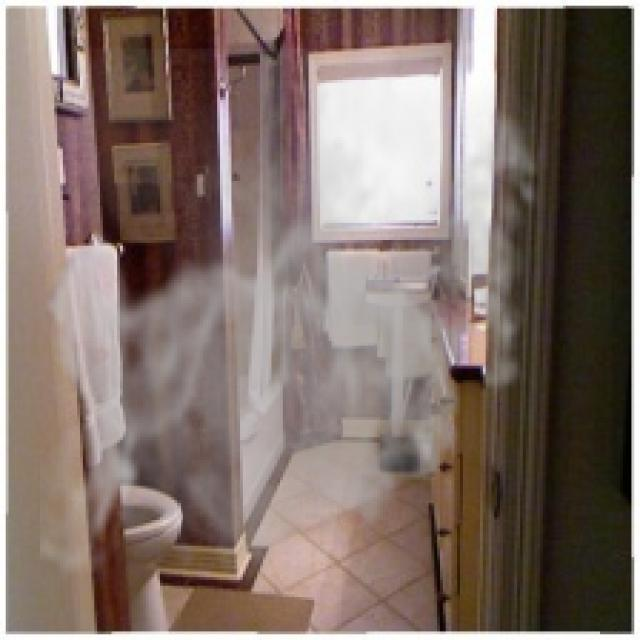Smoke: (39, 48, 554, 603)
